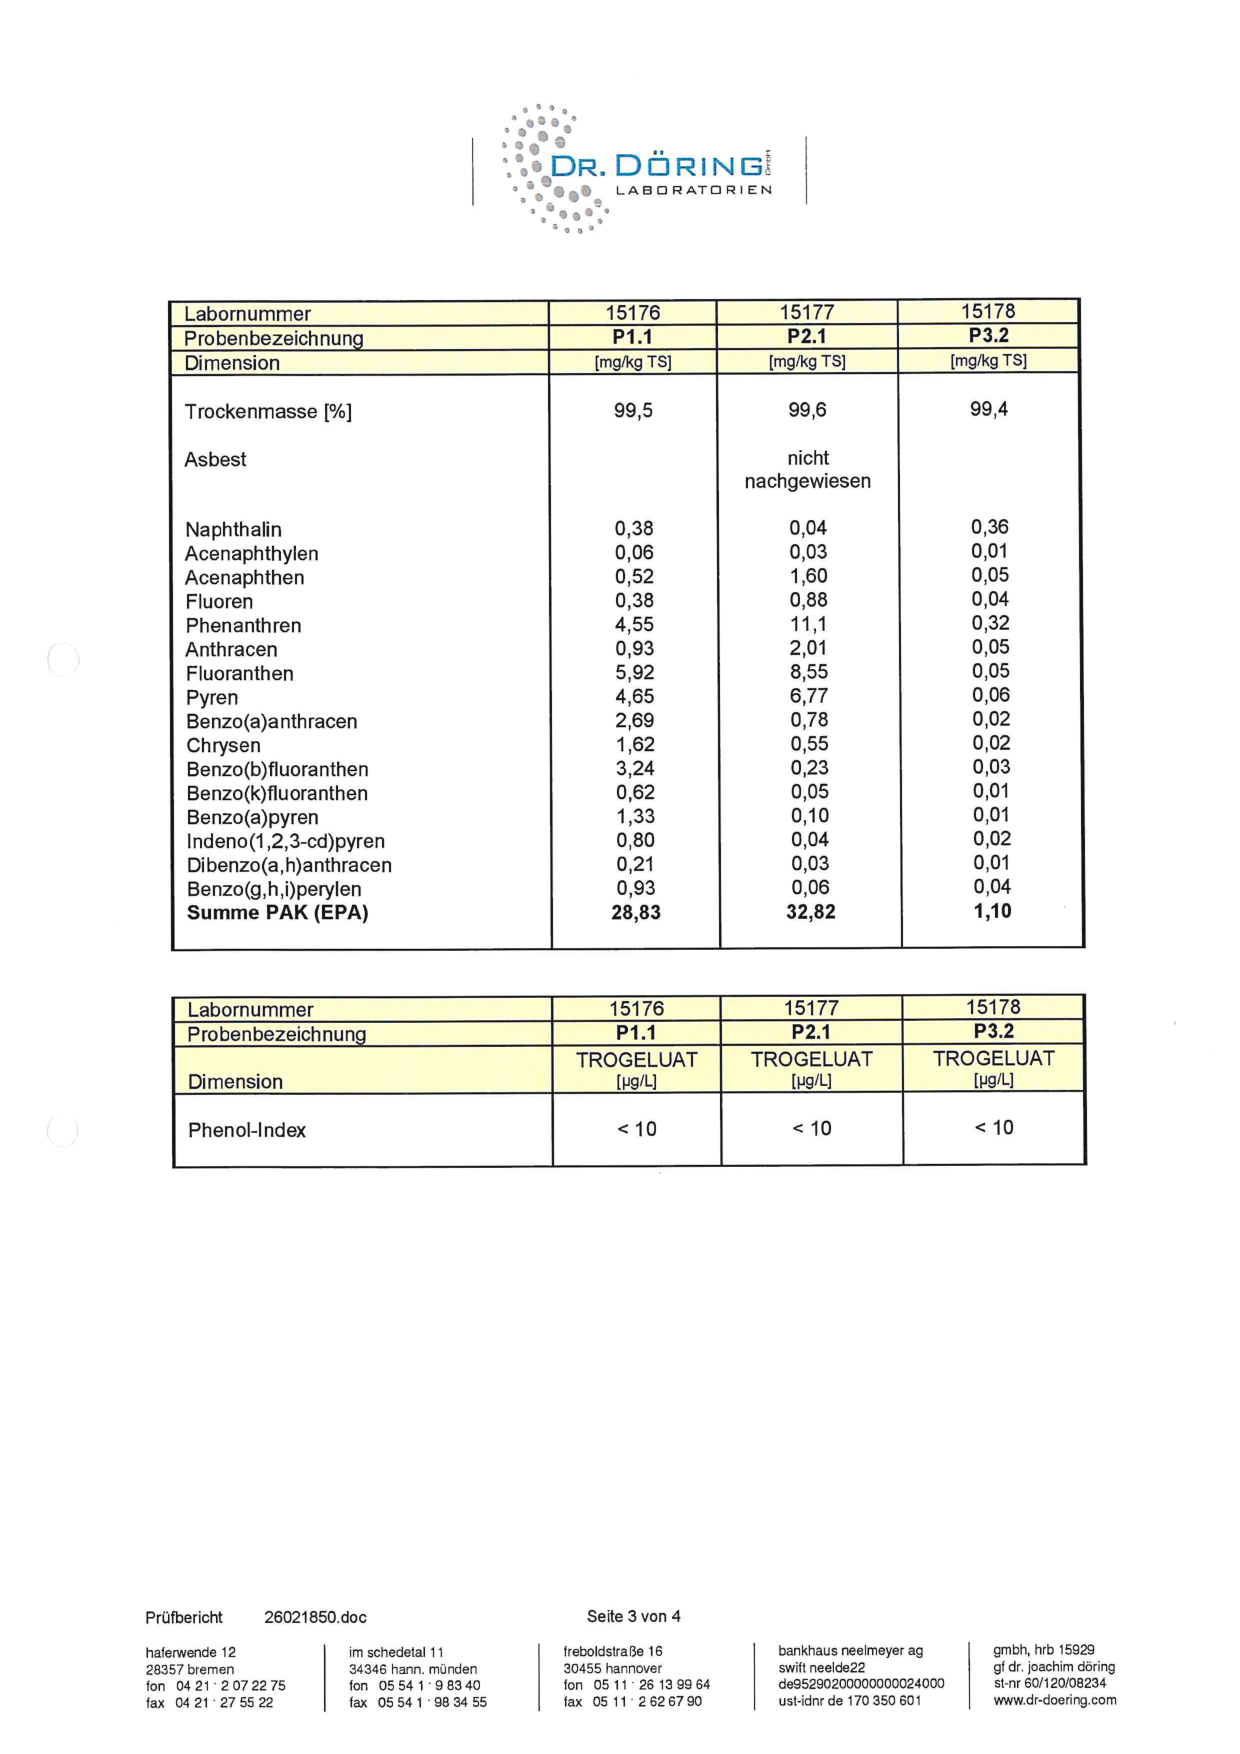table: (149, 286, 1106, 960), (154, 981, 1096, 1176)
